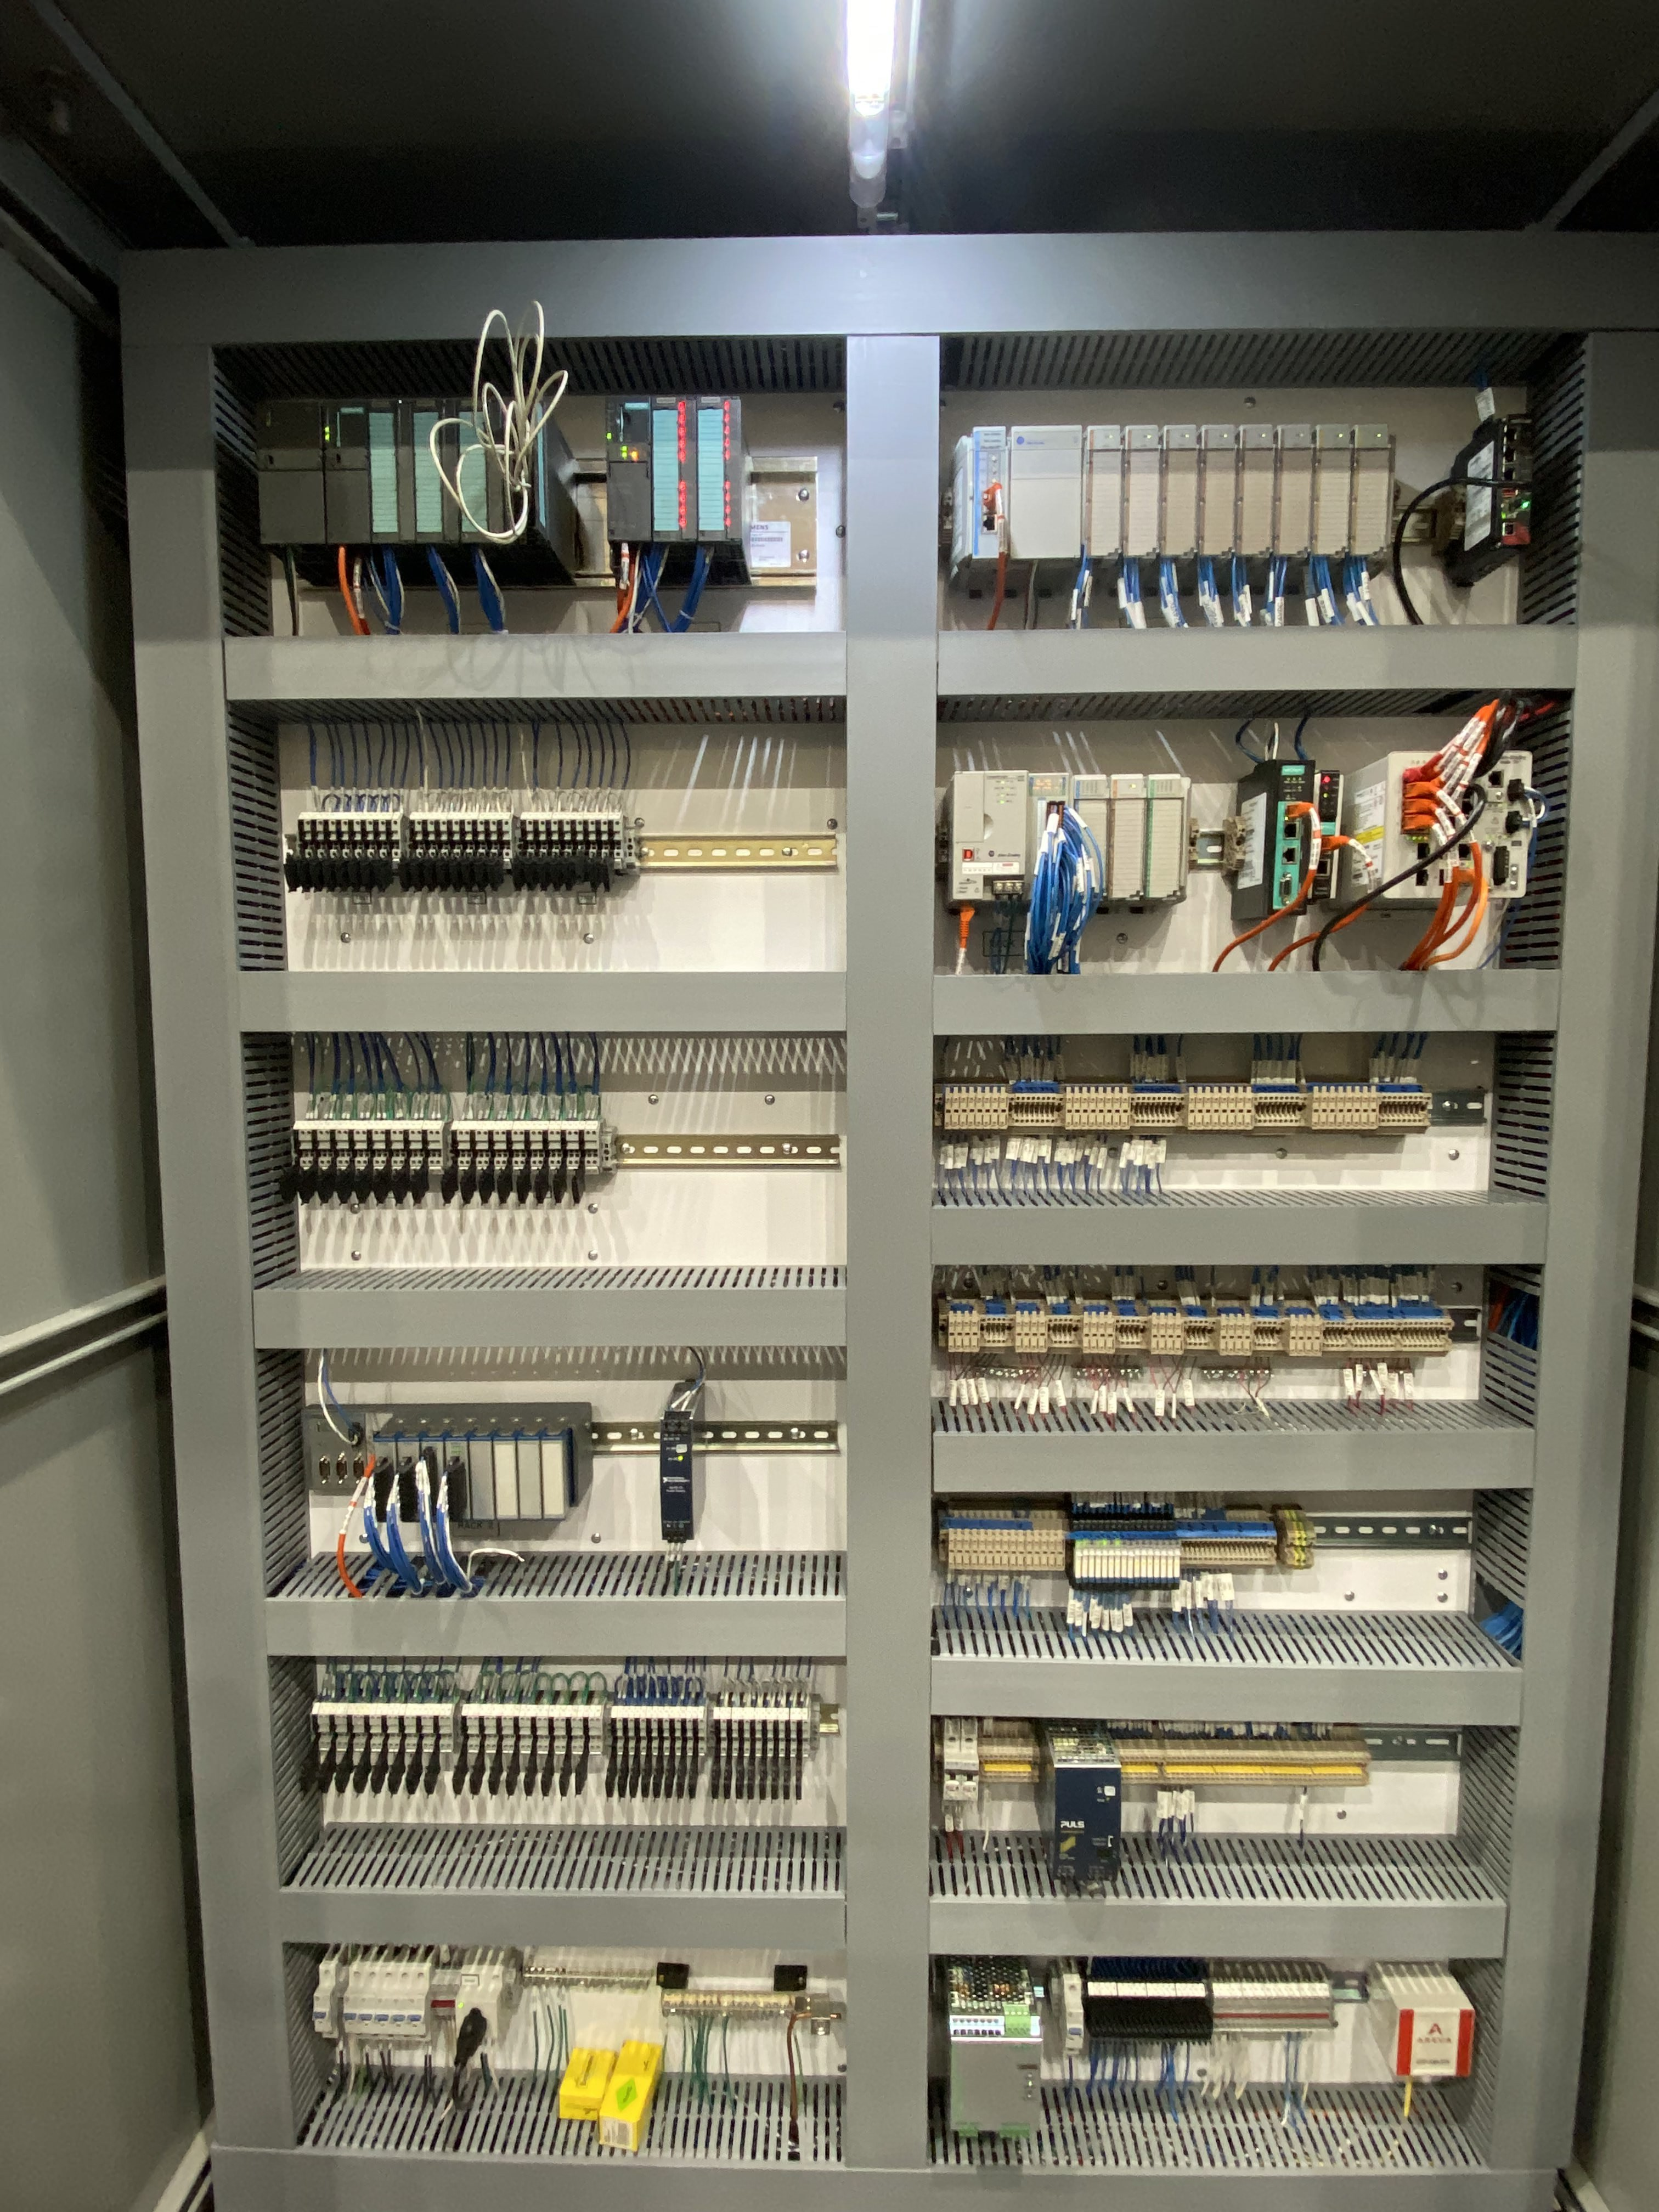AllenBradley: (948, 766, 1032, 904)
Siemens: (319, 394, 376, 549)
